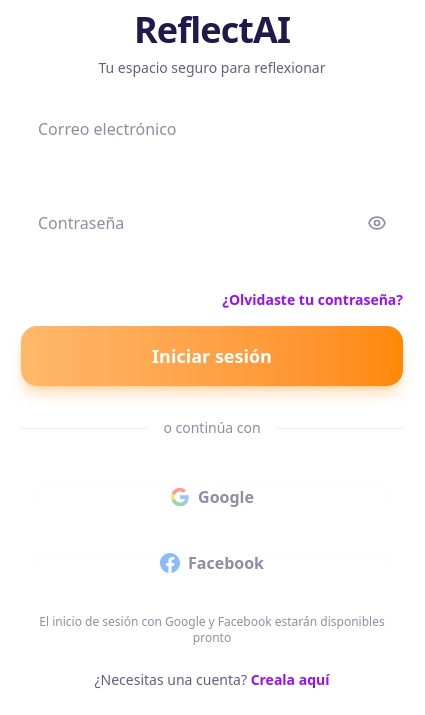
Test: LoginPage › shows the backend error when login fails
Type "ana@example.com" into the field with placeholder "Correo electrónico" at {"x": 212, "y": 129}, box x1=21 y1=102 x2=403 y2=156
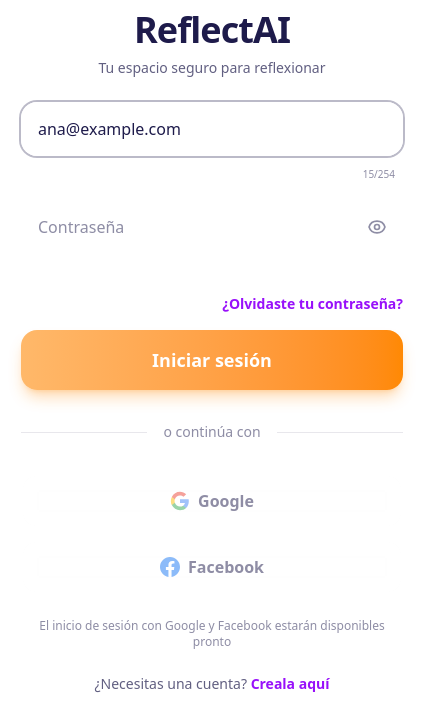
Type "ValidPassword123" into the password field with placeholder "Contraseña" at {"x": 212, "y": 227}, box x1=21 y1=200 x2=403 y2=254
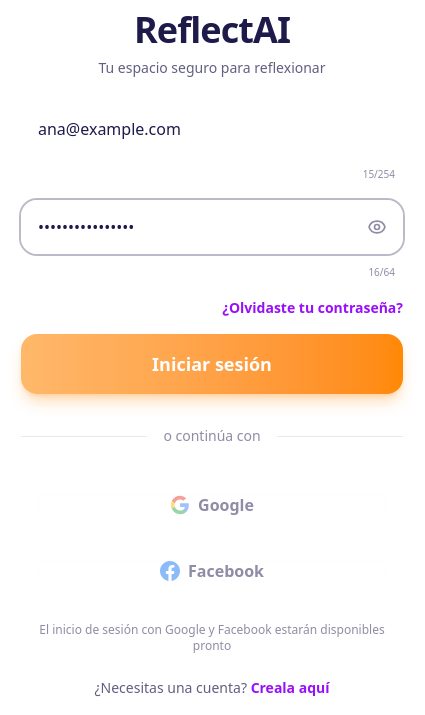
Click the button "Iniciar sesión" at {"x": 212, "y": 364}, box x1=21 y1=334 x2=403 y2=394
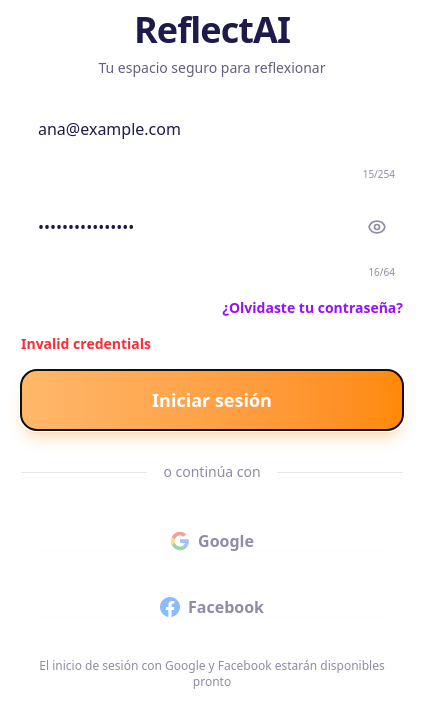
Now the message reads "Invalid credentials", box x1=21 y1=334 x2=151 y2=353
